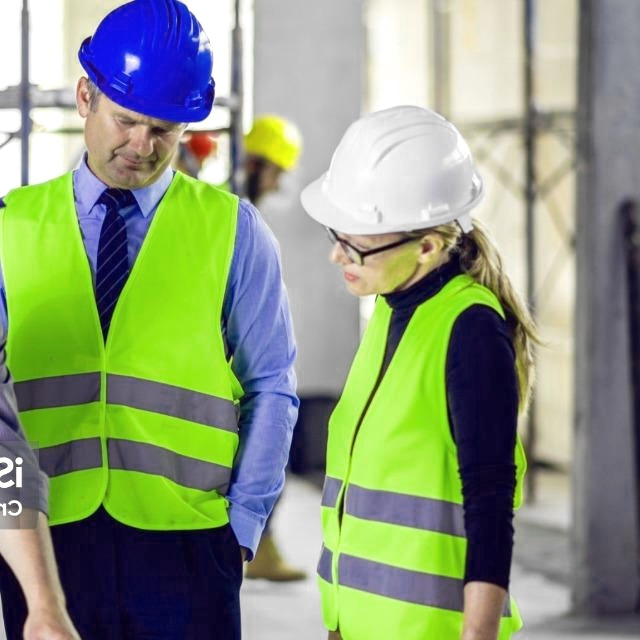Con_Casco: (303, 105, 485, 290), (74, 1, 218, 183)
Con_Chaleco: (13, 168, 245, 530), (314, 286, 524, 640)
